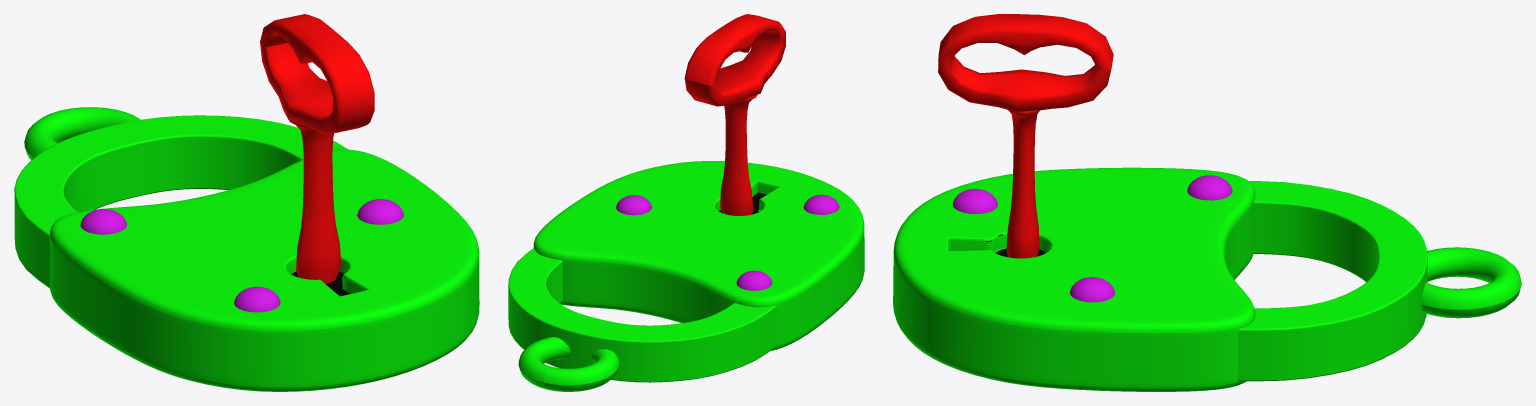
Rendered from lock_key.dae.
3 renders of one model, left to right at view 1: azimuth 30°, elevation 25°; view 2: azimuth 150°, elevation 25°; view 3: azimuth 270°, elevation 25°, orthographic. The views are drawn at different scales.
Parts seen in each view (by area): view 1: prim1; view 2: prim1; view 3: prim1.
Boxes of the visible parts, <box> form: prim1: <box>14,14,479,391</box>; prim1: <box>508,14,864,391</box>; prim1: <box>893,14,1521,391</box>.
Size of the model in its own units: 0.4755 by 0.7829 by 0.4213.
